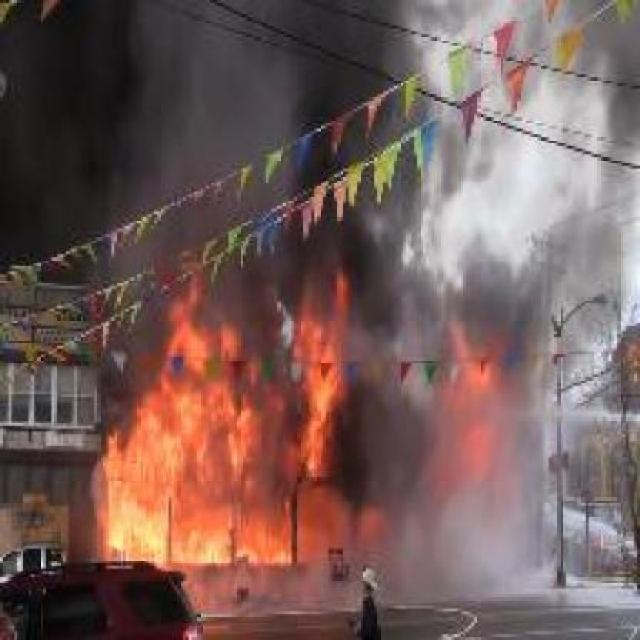fire: (100, 334, 377, 560), (445, 357, 531, 480)
smoke: (386, 8, 609, 328)
